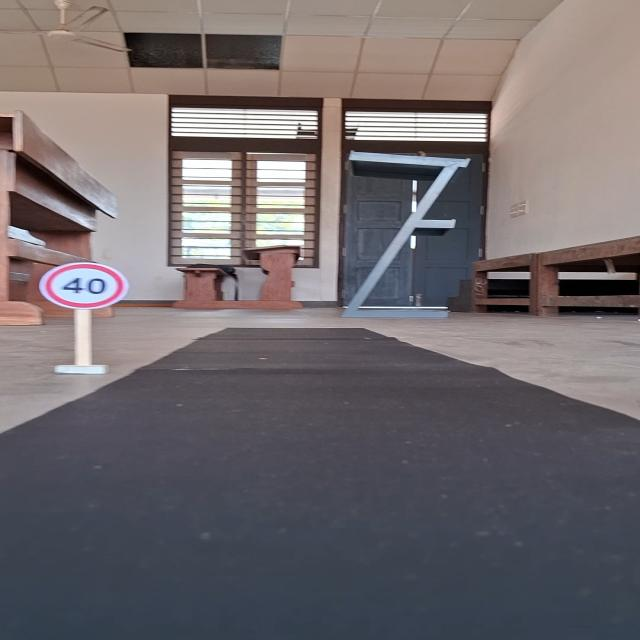Speed40: (36, 260, 131, 312)
